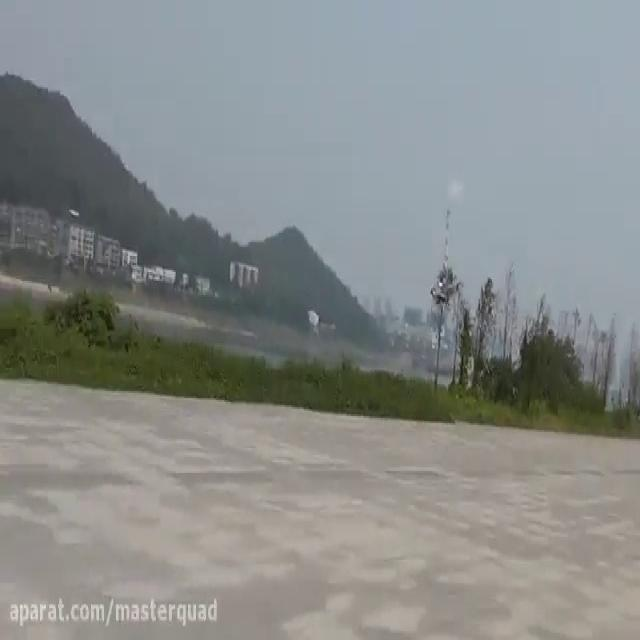drone: (428, 270, 464, 302)
